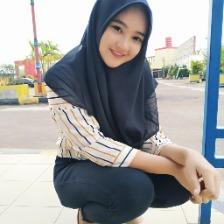Non Syar-i: (40, 0, 162, 146)
